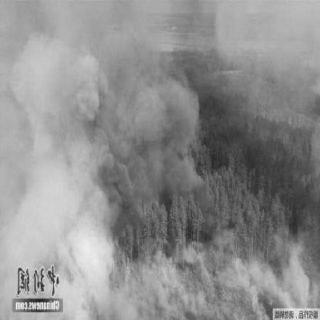Fire: (109, 226, 227, 286)
